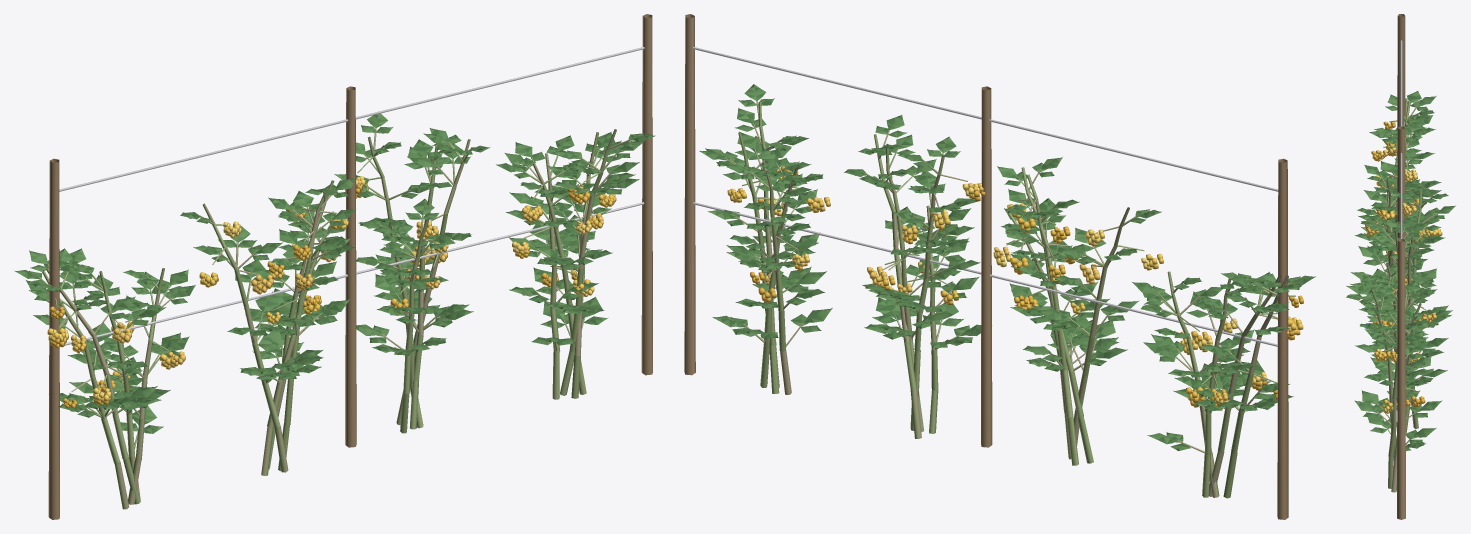
File: framboise_jaune_mur.glb
3 views of the same model, side by side, from view 1: azimuth 30°, elevation 25°; view 2: azimuth 150°, elevation 25°; view 3: azimuth 270°, elevation 25° (orthographic). The views are drawn at different scales.
Visible parts, largest first — view 1: Framboise_Feuilles, Framboise_Cannes, Framboise_Piquets, Framboise_Fruits, Framboise_Fil; view 2: Framboise_Feuilles, Framboise_Cannes, Framboise_Piquets, Framboise_Fruits, Framboise_Fil; view 3: Framboise_Feuilles, Framboise_Piquets, Framboise_Cannes, Framboise_Fruits, Framboise_Fil.
Part boxes in pixels (x1=…): Framboise_Feuilles: x1=14, y1=113, x2=655, y2=433; Framboise_Cannes: x1=38, y1=128, x2=632, y2=509; Framboise_Piquets: x1=48, y1=14, x2=652, y2=519; Framboise_Fruits: x1=47, y1=176, x2=616, y2=408; Framboise_Fil: x1=59, y1=47, x2=644, y2=345; Framboise_Feuilles: x1=699, y1=84, x2=1315, y2=450; Framboise_Cannes: x1=724, y1=101, x2=1295, y2=498; Framboise_Piquets: x1=684, y1=14, x2=1288, y2=519; Framboise_Fruits: x1=727, y1=166, x2=1303, y2=409; Framboise_Fil: x1=693, y1=47, x2=1278, y2=346; Framboise_Feuilles: x1=1346, y1=91, x2=1455, y2=450; Framboise_Piquets: x1=1397, y1=14, x2=1405, y2=519; Framboise_Cannes: x1=1361, y1=98, x2=1436, y2=492; Framboise_Fruits: x1=1365, y1=121, x2=1442, y2=413; Framboise_Fil: x1=1400, y1=40, x2=1402, y2=238.
Size of the model in its own units: 2.12 by 1.15 by 0.4174.
